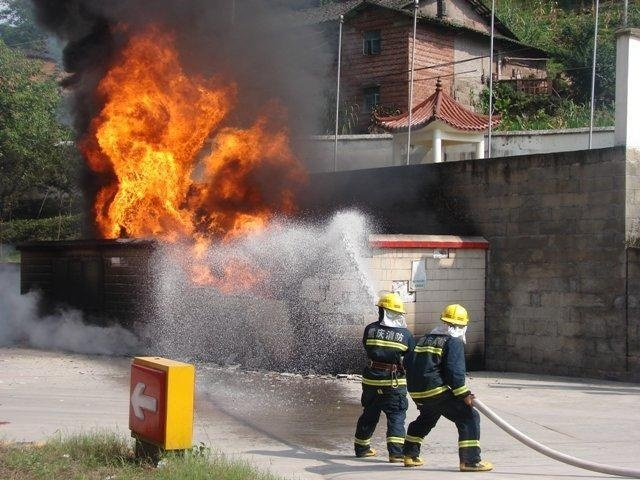fire: (92, 25, 300, 283)
